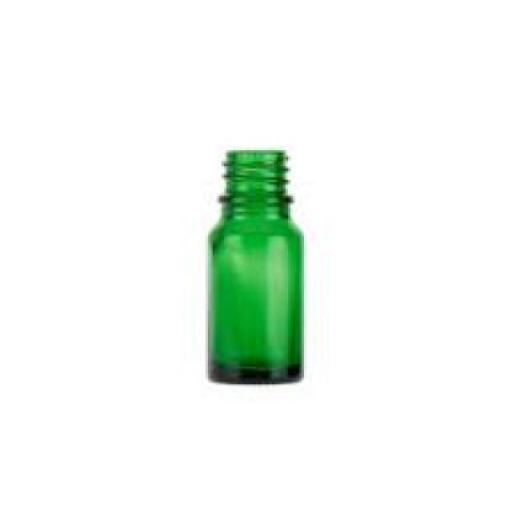glass: (210, 148, 309, 382)
